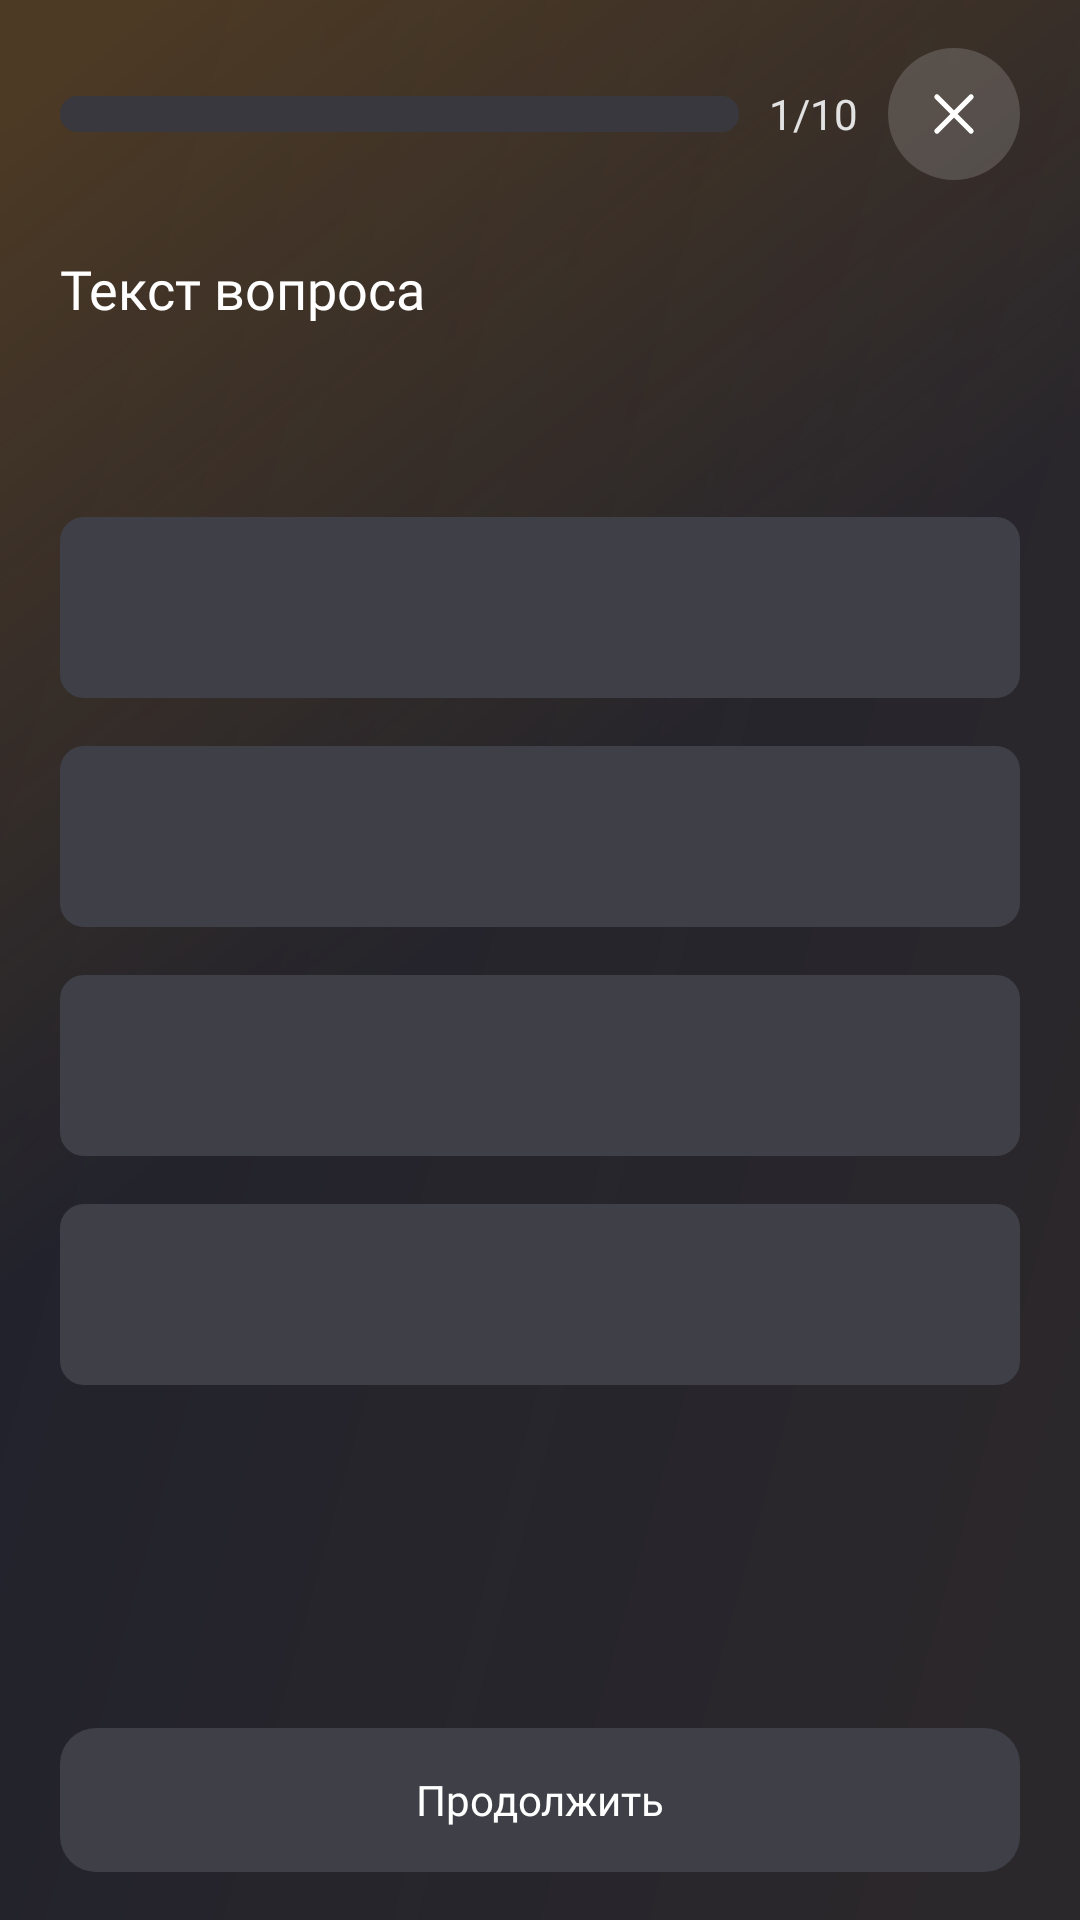

Screen size 1080px×1920px. Icon name, then its center in pixels as (x=x, y=y):
cancellation: (x=954, y=114)
